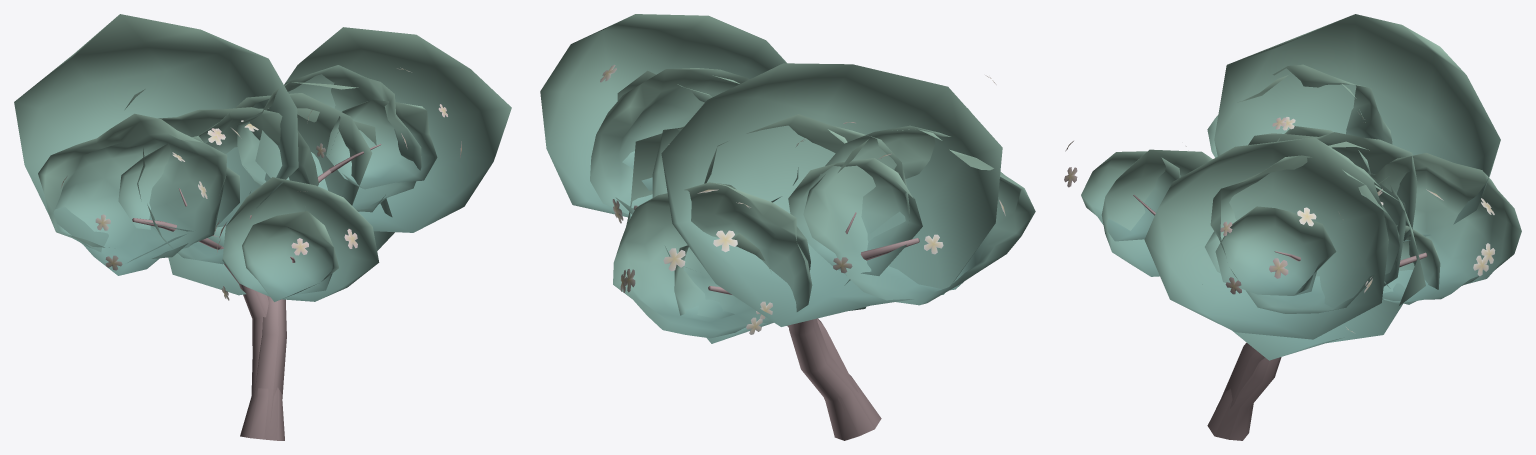
Rendered from hawthorn.glb.
3 views of the same model, side by side, from view 1: azimuth 30°, elevation 25°; view 2: azimuth 150°, elevation 25°; view 3: azimuth 270°, elevation 25° (orthographic). The views are drawn at different scales.
Visible parts, largest first — view 1: far, near; view 2: far, near; view 3: far, near.
Boxes of the visible parts, x1,y1,x2,y2 form: far: (14,14,511,424); near: (38,65,461,440); far: (540,14,1002,410); near: (590,64,1035,440); far: (1144,14,1500,410); near: (1064,64,1521,440).
Size of the model in its own units: 5.96 by 5.15 by 5.68.
